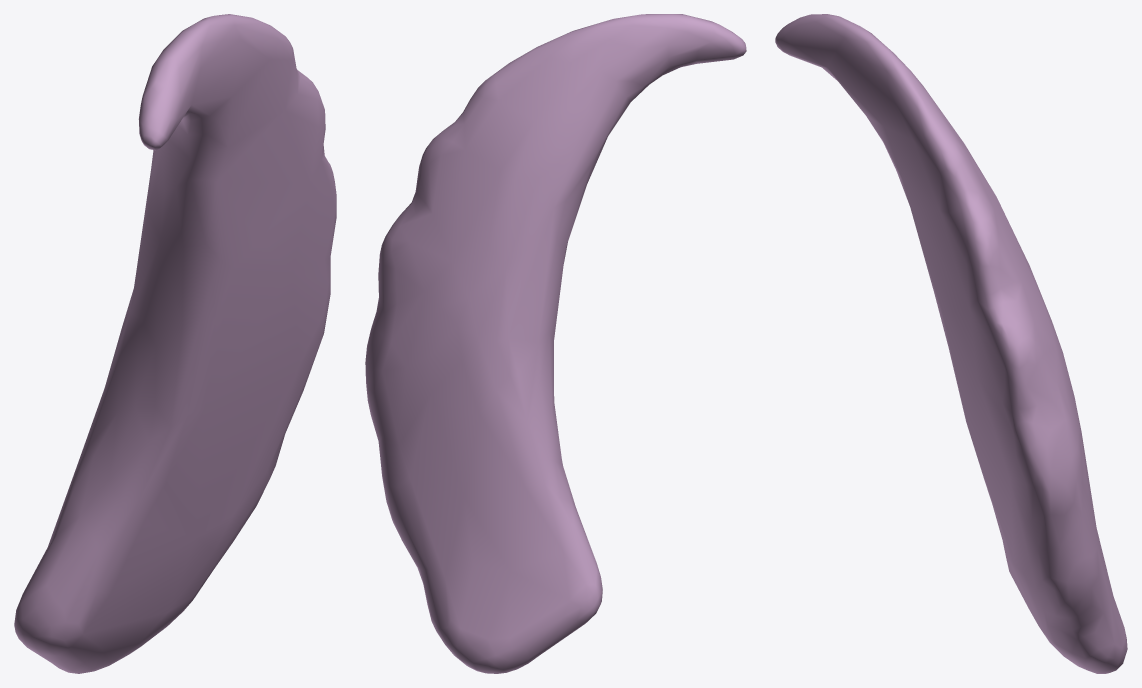
The picture shows the model from 3 angles, left to right: view 1: azimuth 30°, elevation 25°; view 2: azimuth 150°, elevation 25°; view 3: azimuth 270°, elevation 25°; orthographic projection. The views are drawn at different scales.
Parts seen in each view (by area): view 1: 左侧海马; view 2: 左侧海马; view 3: 左侧海马.
Part boxes in pixels (x1,y1,x2,y2): 左侧海马: [14, 14, 336, 673]; 左侧海马: [365, 14, 746, 673]; 左侧海马: [775, 14, 1127, 673].
Size of the model in its own units: 0.0286 by 0.0613 by 0.0314.
